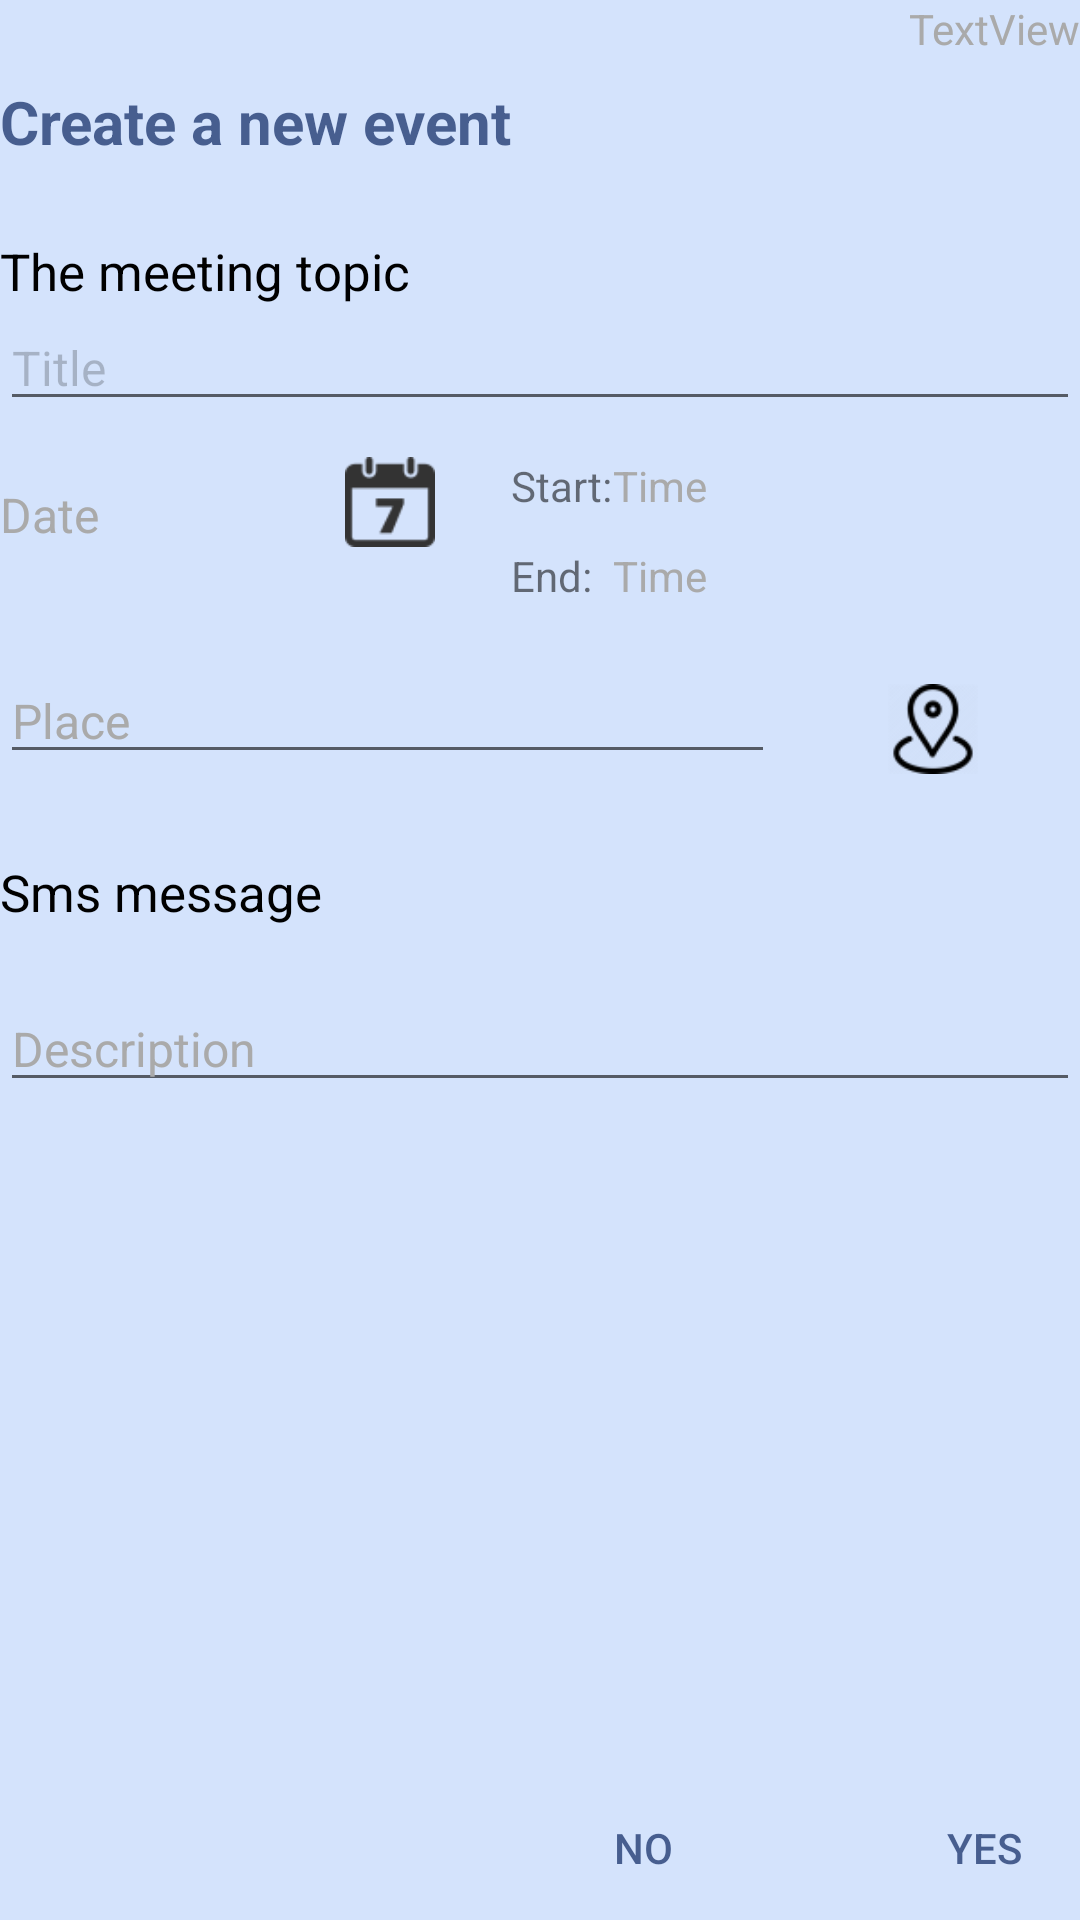

Icons on this 1080×1920 Android screen, each with the point to tap as (x,y):
calendar: (390,502)
